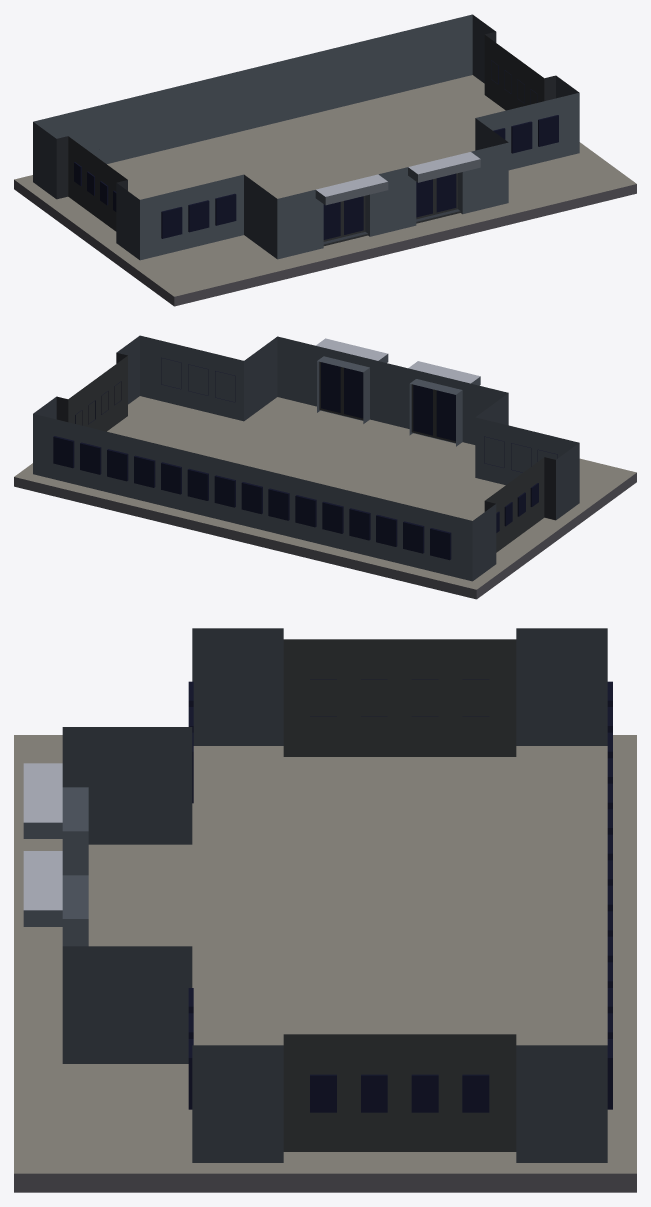
The model's file is TB_CITY_Skysc_J_Bottom_Blue.FBX.
3 renders of one model, top to bottom at view 1: azimuth 30°, elevation 25°; view 2: azimuth 150°, elevation 25°; view 3: azimuth 270°, elevation 25°, orthographic. The views are drawn at different scales.
Visible parts, largest first — view 1: TB_CITY_Skysc_J_Bottom_Blue; view 2: TB_CITY_Skysc_J_Bottom_Blue; view 3: TB_CITY_Skysc_J_Bottom_Blue.
Boxes of the visible parts, x1,y1,x2,y2 form: TB_CITY_Skysc_J_Bottom_Blue: [14, 14, 636, 306]; TB_CITY_Skysc_J_Bottom_Blue: [14, 335, 636, 599]; TB_CITY_Skysc_J_Bottom_Blue: [14, 628, 636, 1192].
Size of the model in its own units: 40 by 5.8 by 24.
